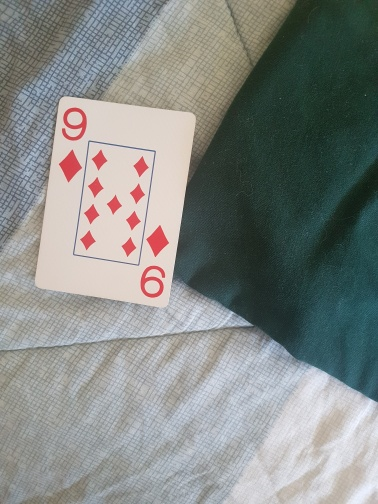nine: (34, 97, 197, 307)
